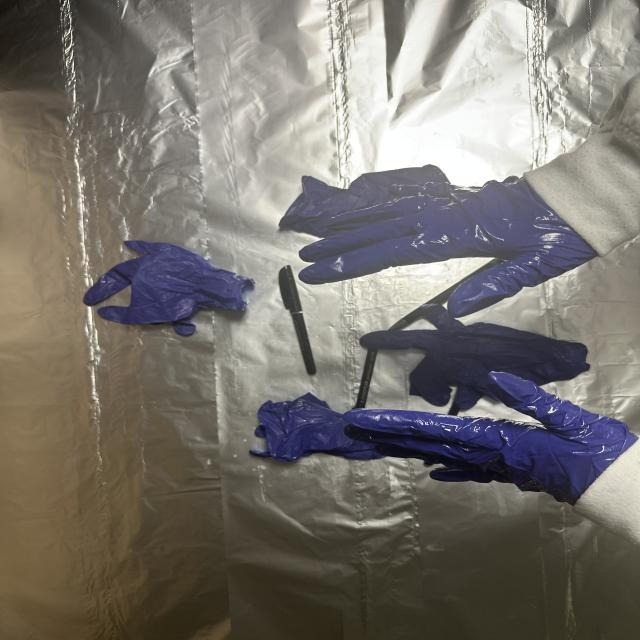gloves_contaminated: (300, 177, 596, 317), (350, 373, 636, 504)
